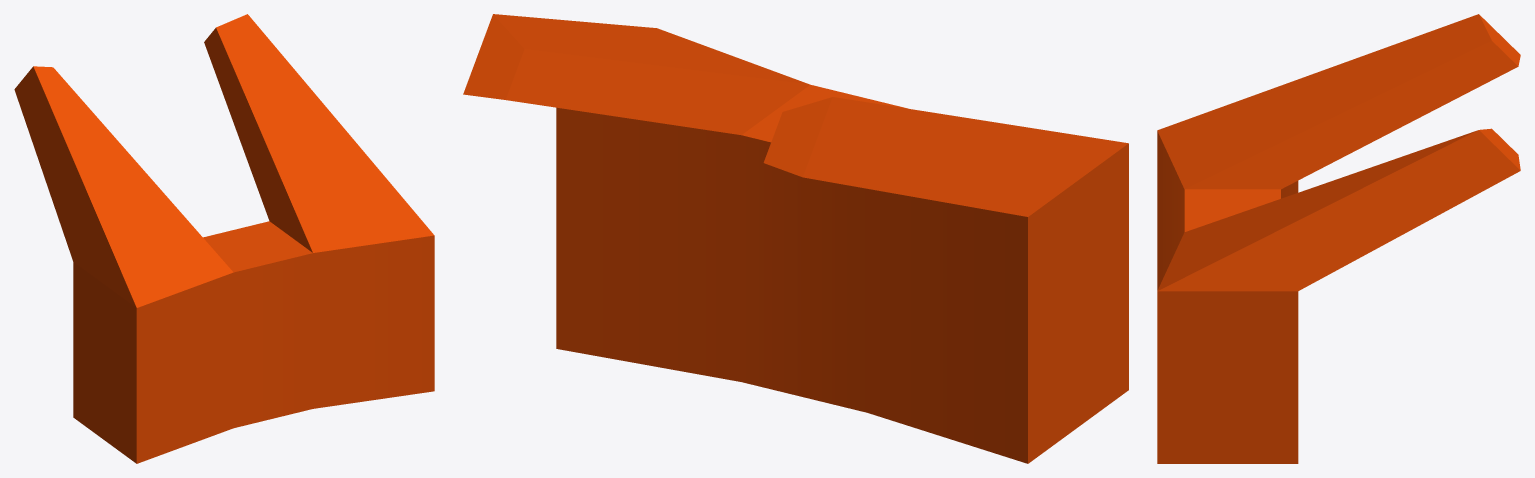
Rendered from HotClothes.FBX.
The picture shows the model from 3 angles, left to right: view 1: azimuth 30°, elevation 25°; view 2: azimuth 150°, elevation 25°; view 3: azimuth 270°, elevation 25°; orthographic projection. The views are drawn at different scales.
Visible parts, largest first — view 1: HotClothes; view 2: HotClothes; view 3: HotClothes.
Part boxes in pixels (bbox=[...]): HotClothes: bbox=[14, 14, 434, 463]; HotClothes: bbox=[463, 14, 1128, 463]; HotClothes: bbox=[1157, 14, 1520, 463].
Bounding box in the file's own units: 28.99 × 26.16 × 27.67.
